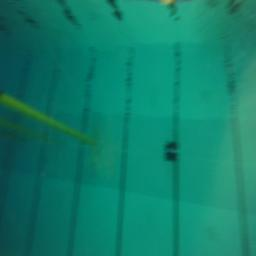Full: (164, 152, 178, 161)
